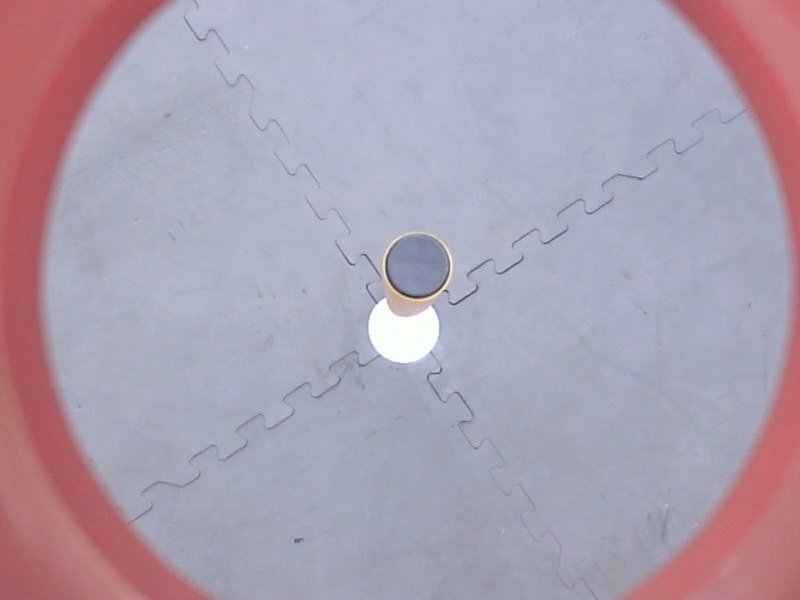tip: (381, 228, 457, 305)
